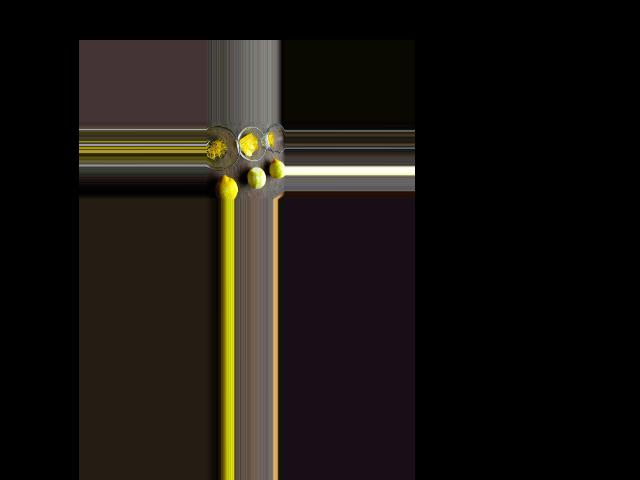lemon: (216, 172, 237, 197)
